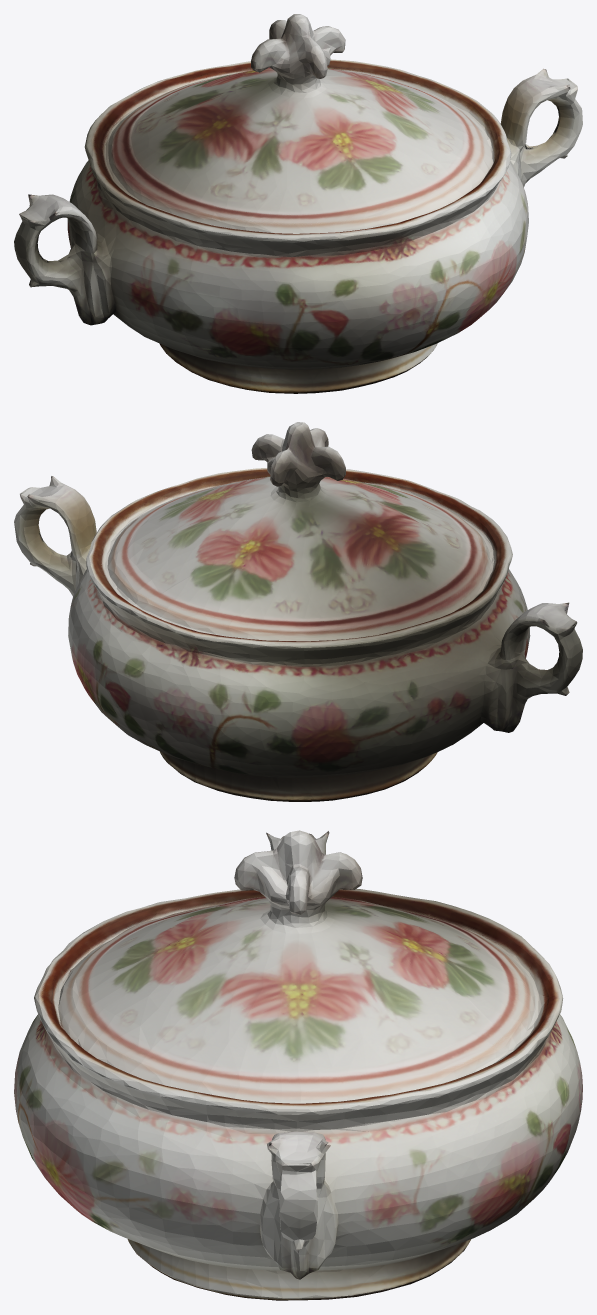
Rendered from ceramic-tureen-vintage.jpeg.glb.
The picture shows the model from 3 angles, top to bottom: view 1: azimuth 30°, elevation 25°; view 2: azimuth 150°, elevation 25°; view 3: azimuth 270°, elevation 25°; orthographic projection. The views are drawn at different scales.
Visible parts, largest first — view 1: world; view 2: world; view 3: world.
Boxes of the visible parts, <box> form: world: <box>14,14,582,393</box>; world: <box>14,422,582,801</box>; world: <box>14,830,582,1300</box>.
Bounding box in the file's own units: 1 × 0.5508 × 0.7134.
1 material, 1 textured.
